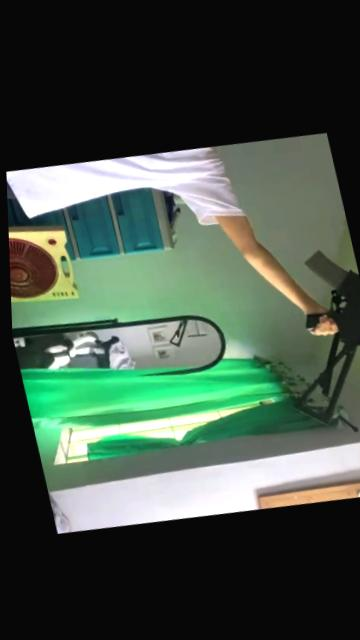rifle: (240, 180, 360, 432)
